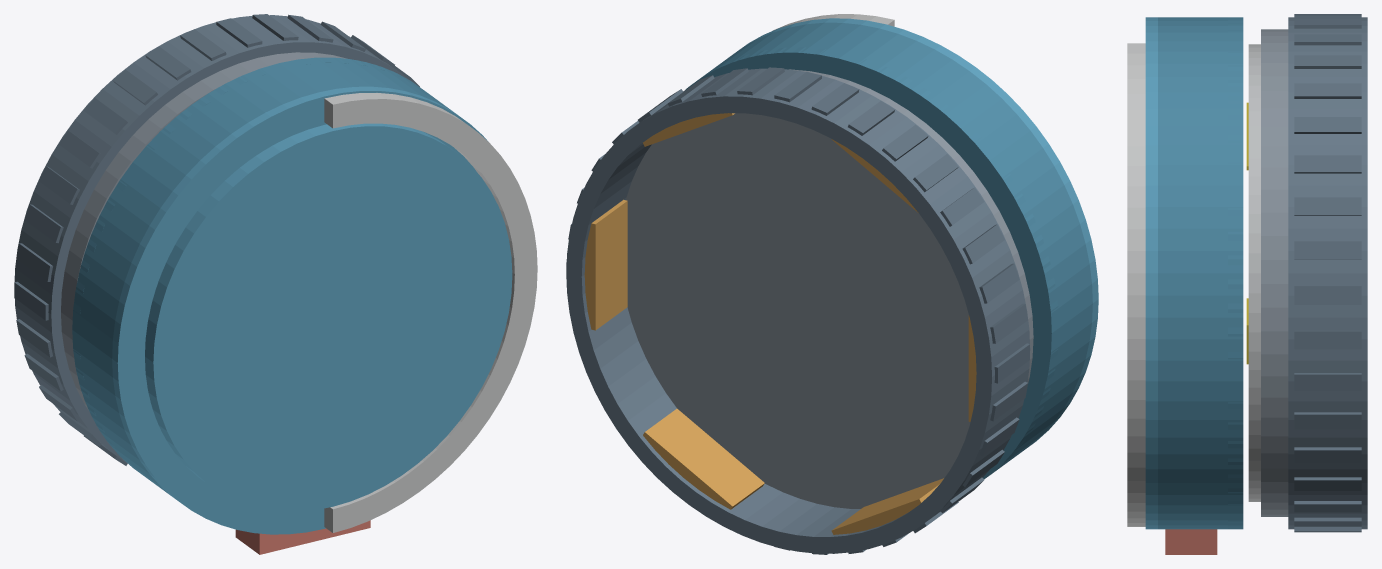
Rendered from cap_gripper_pet_30_1p1x.glb.
The picture shows the model from 3 angles, left to right: view 1: azimuth 30°, elevation 25°; view 2: azimuth 150°, elevation 25°; view 3: azimuth 270°, elevation 25°; orthographic projection. The views are drawn at different scales.
Visible parts, largest first — view 1: top_lid, puck_shell_wall, top_lid_skirt, compression_collar, folding_bail, chuck_hub, usbc_tpu_plug, puck_shell_floor, rib_15, rib_13, rib_12, rib_14 (+6 smaller); view 2: chuck_hub, compression_collar, puck_shell_wall, puck_shell_floor, collet_petal_5, collet_petal_0, top_lid_skirt, collet_petal_4, collet_petal_1, rib_15, rib_12, rib_13 (+8 smaller); view 3: puck_shell_wall, compression_collar, chuck_hub, folding_bail, top_lid_skirt, flexure_outer_ring, puck_shell_floor, usbc_tpu_plug, rib_1, rib_2, rib_3, rib_4 (+14 smaller).
Boxes of the visible parts, bbox=[...] form: top_lid: bbox=[145, 123, 512, 511]; puck_shell_wall: bbox=[72, 57, 457, 495]; top_lid_skirt: bbox=[112, 86, 488, 534]; compression_collar: bbox=[14, 15, 407, 463]; folding_bail: bbox=[324, 93, 537, 532]; chuck_hub: bbox=[61, 52, 346, 410]; usbc_tpu_plug: bbox=[235, 520, 370, 554]; puck_shell_floor: bbox=[73, 57, 416, 460]; rib_15: bbox=[39, 166, 79, 204]; rib_13: bbox=[83, 98, 127, 134]; rib_12: bbox=[113, 69, 157, 105]; rib_14: bbox=[59, 130, 101, 168]; chuck_hub: bbox=[626, 69, 1033, 508]; compression_collar: bbox=[566, 68, 1030, 553]; puck_shell_wall: bbox=[684, 22, 1092, 475]; puck_shell_floor: bbox=[688, 47, 1058, 479]; collet_petal_5: bbox=[643, 408, 764, 509]; collet_petal_0: bbox=[584, 199, 627, 330]; top_lid_skirt: bbox=[737, 18, 1098, 444]; collet_petal_4: bbox=[831, 478, 943, 534]; collet_petal_1: bbox=[643, 113, 734, 146]; rib_15: bbox=[962, 224, 1004, 264]; rib_12: bbox=[882, 124, 928, 161]; rib_13: bbox=[913, 154, 958, 192]; puck_shell_wall: bbox=[1158, 17, 1243, 529]; compression_collar: bbox=[1288, 17, 1367, 529]; chuck_hub: bbox=[1261, 29, 1288, 516]; folding_bail: bbox=[1127, 43, 1145, 526]; top_lid_skirt: bbox=[1145, 17, 1157, 529]; flexure_outer_ring: bbox=[1248, 44, 1260, 501]; puck_shell_floor: bbox=[1228, 17, 1243, 528]; usbc_tpu_plug: bbox=[1165, 529, 1217, 554]; rib_1: bbox=[1294, 330, 1361, 349]; rib_2: bbox=[1294, 286, 1361, 304]; rib_3: bbox=[1294, 241, 1361, 259]; rib_4: bbox=[1294, 197, 1361, 215].
Size of the model in its own units: 34 by 35.27 by 15.75.
